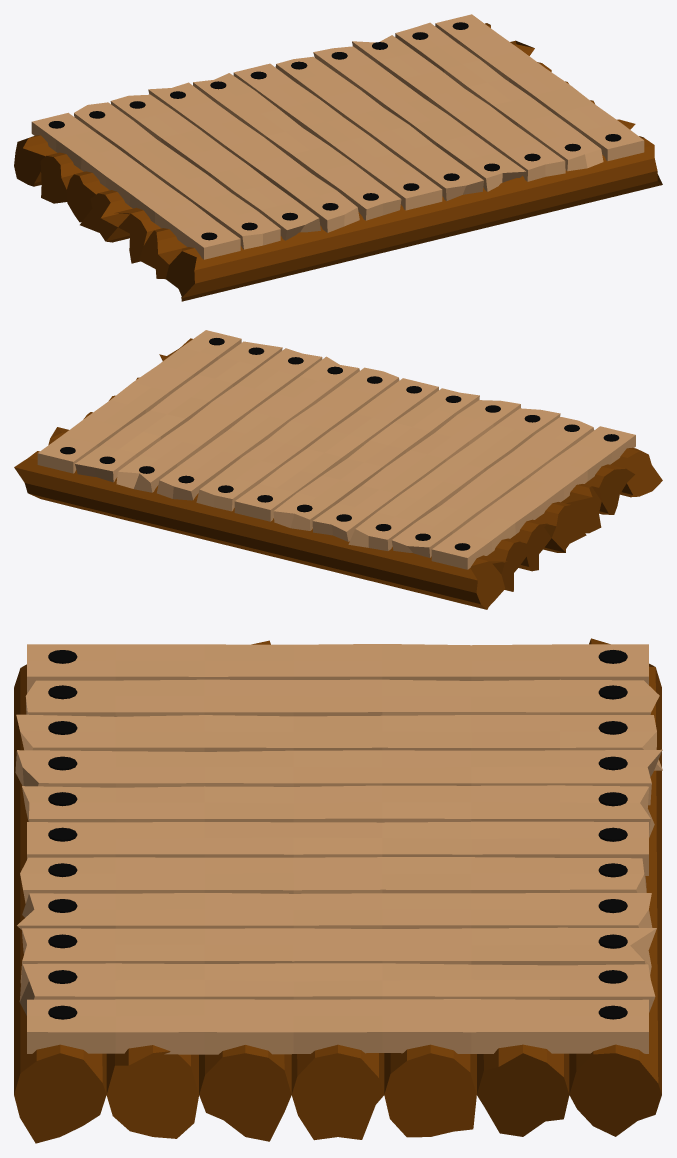
The model's file is wood.fbx.
3 views of the same model, one above another, from view 1: azimuth 30°, elevation 25°; view 2: azimuth 150°, elevation 25°; view 3: azimuth 270°, elevation 25° (orthographic). The views are drawn at different scales.
Parts seen in each view (by area): view 1: Cube, Cylinder, Cylinder.001; view 2: Cube, Cylinder, Cylinder.001; view 3: Cube, Cylinder, Cylinder.001.
Part boxes in pixels (box(x1,y1,x2,y2)): Cube: box(31, 14, 644, 259); Cylinder: box(14, 23, 662, 301); Cylinder.001: box(48, 22, 621, 240); Cube: box(37, 330, 635, 569); Cylinder: box(14, 338, 662, 609); Cylinder.001: box(60, 338, 619, 550); Cube: box(15, 644, 662, 1054); Cylinder: box(14, 638, 661, 1143); Cylinder.001: box(48, 650, 627, 1019).
Bounding box in the file's own units: 521 × 54.99 × 329.
